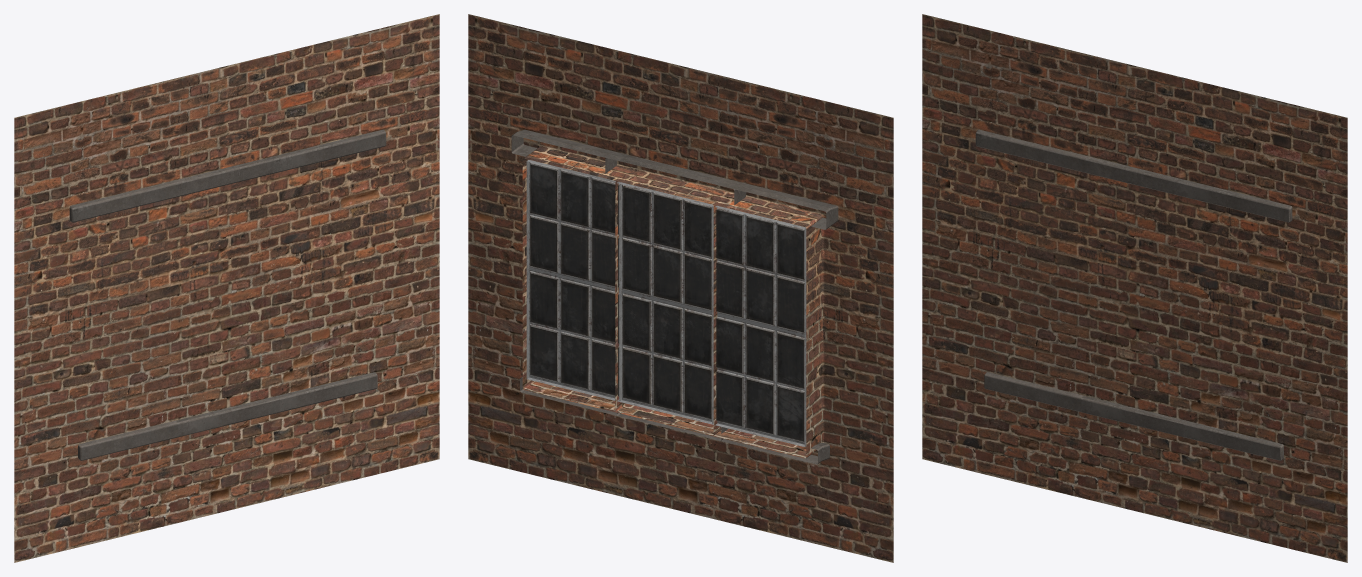
Rendered from runtime.gltf.
3 views of the same model, side by side, from view 1: azimuth 30°, elevation 25°; view 2: azimuth 150°, elevation 25°; view 3: azimuth 330°, elevation 25° (orthographic).
Visible parts, largest first — view 1: solid-wall_standard_standard_01, large-wall_window_centered_large_01, small-wall_window_centered_small_01, large-window_centered_large_01, small-window_centered_small_01; view 2: solid-wall_standard_standard_01, large-window_centered_large_01, large-wall_window_centered_large_01, small-wall_window_centered_small_01, small-window_centered_small_01; view 3: solid-wall_standard_standard_01, large-wall_window_centered_large_01, small-wall_window_centered_small_01, large-window_centered_large_01, small-window_centered_small_01.
Part boxes in pixels (x1,y1,x2,y2): solid-wall_standard_standard_01: (14, 20, 439, 562); large-wall_window_centered_large_01: (14, 14, 439, 551); small-wall_window_centered_small_01: (14, 27, 439, 562); large-window_centered_large_01: (69, 129, 386, 460); small-window_centered_small_01: (165, 152, 291, 437); solid-wall_standard_standard_01: (468, 14, 893, 562); large-window_centered_large_01: (511, 129, 838, 464); large-wall_window_centered_large_01: (468, 15, 893, 549); small-wall_window_centered_small_01: (468, 16, 893, 562); small-window_centered_small_01: (605, 152, 746, 440); solid-wall_standard_standard_01: (922, 14, 1347, 562); large-wall_window_centered_large_01: (922, 17, 1347, 546); small-wall_window_centered_small_01: (922, 15, 1347, 562); large-window_centered_large_01: (975, 129, 1292, 460); small-window_centered_small_01: (1069, 152, 1196, 437).
Bounding box in the file's own units: 3 × 3 × 0.23.
3 materials, 3 textured.
